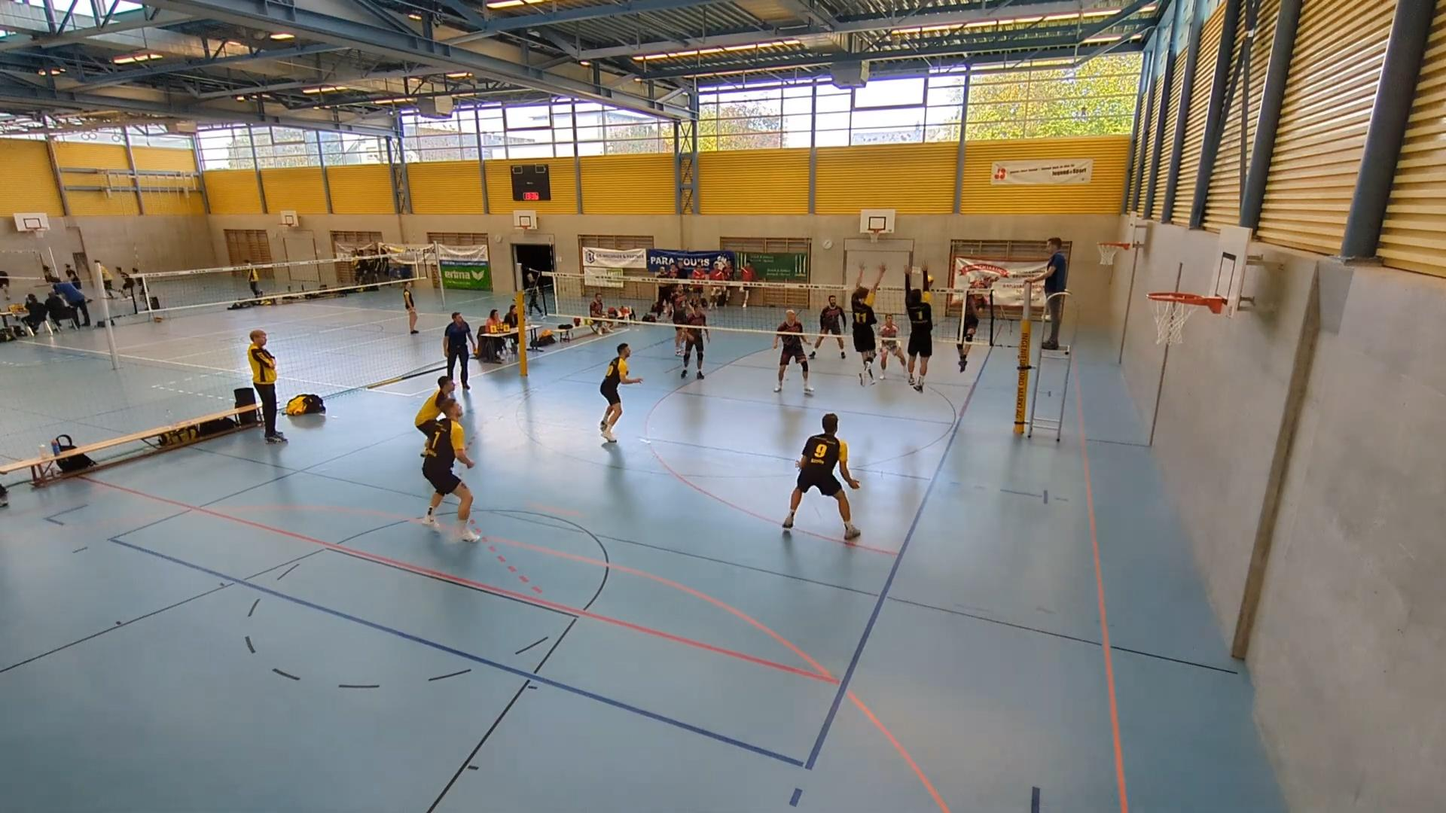attacco: (949, 257, 996, 375)
muro: (846, 258, 891, 385), (901, 260, 938, 398)
